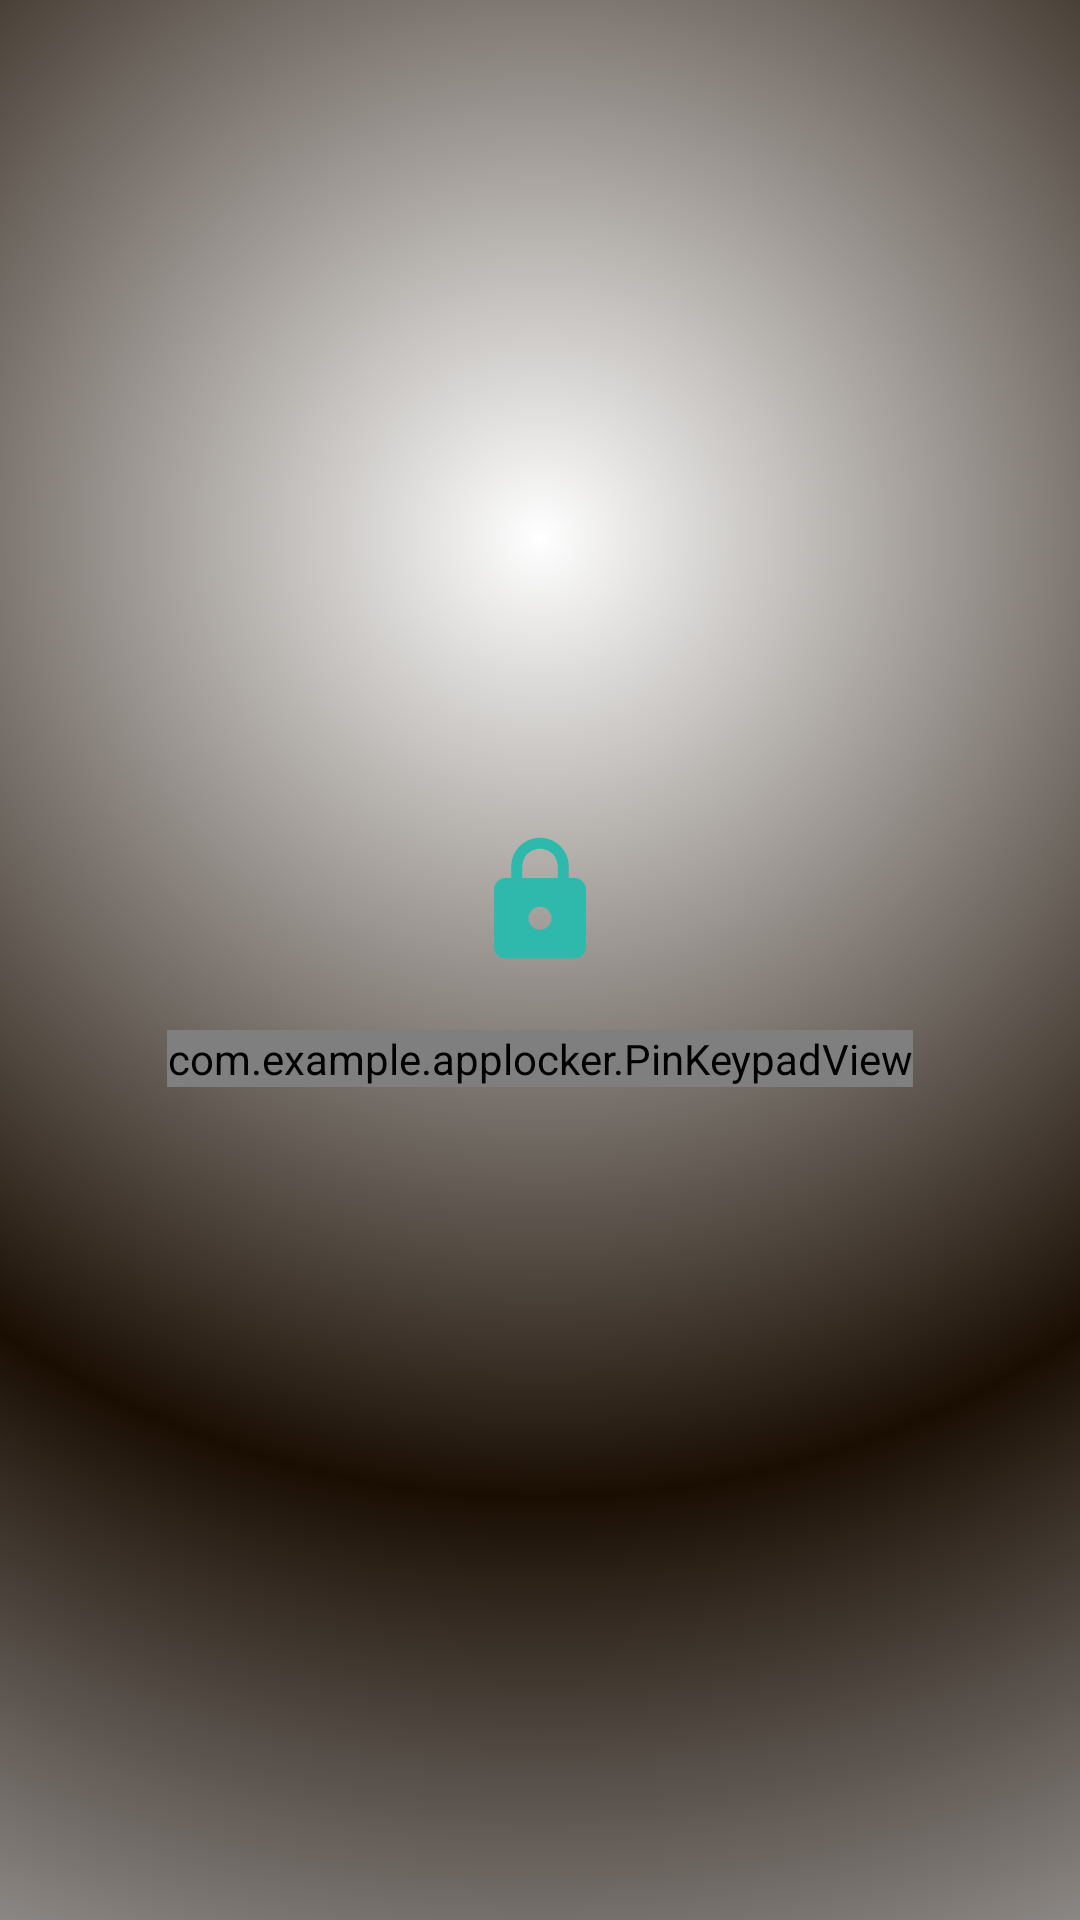

Icons on this 1080px x 1920px Android screen, each with the point to tap as (x,y):
App icon: (540,901)
